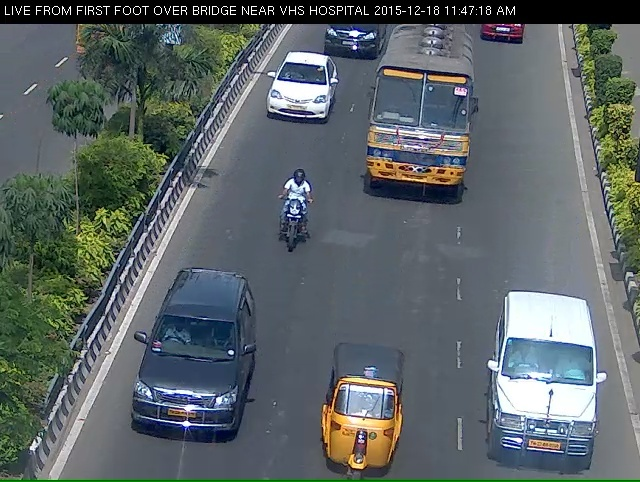Auto: (301, 356, 416, 481)
Bus: (377, 25, 477, 215)
Car: (485, 297, 614, 480), (127, 284, 250, 473), (261, 62, 334, 132), (315, 19, 388, 68)
Person: (281, 170, 308, 271)
